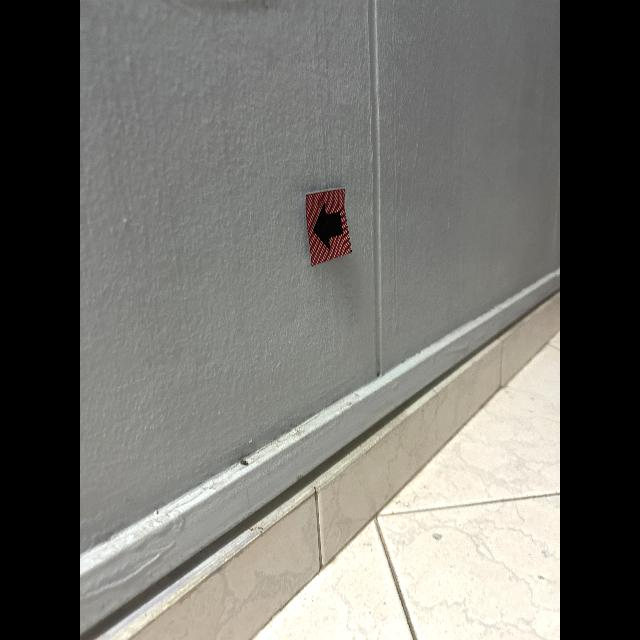LEFT: (313, 202, 343, 252)
